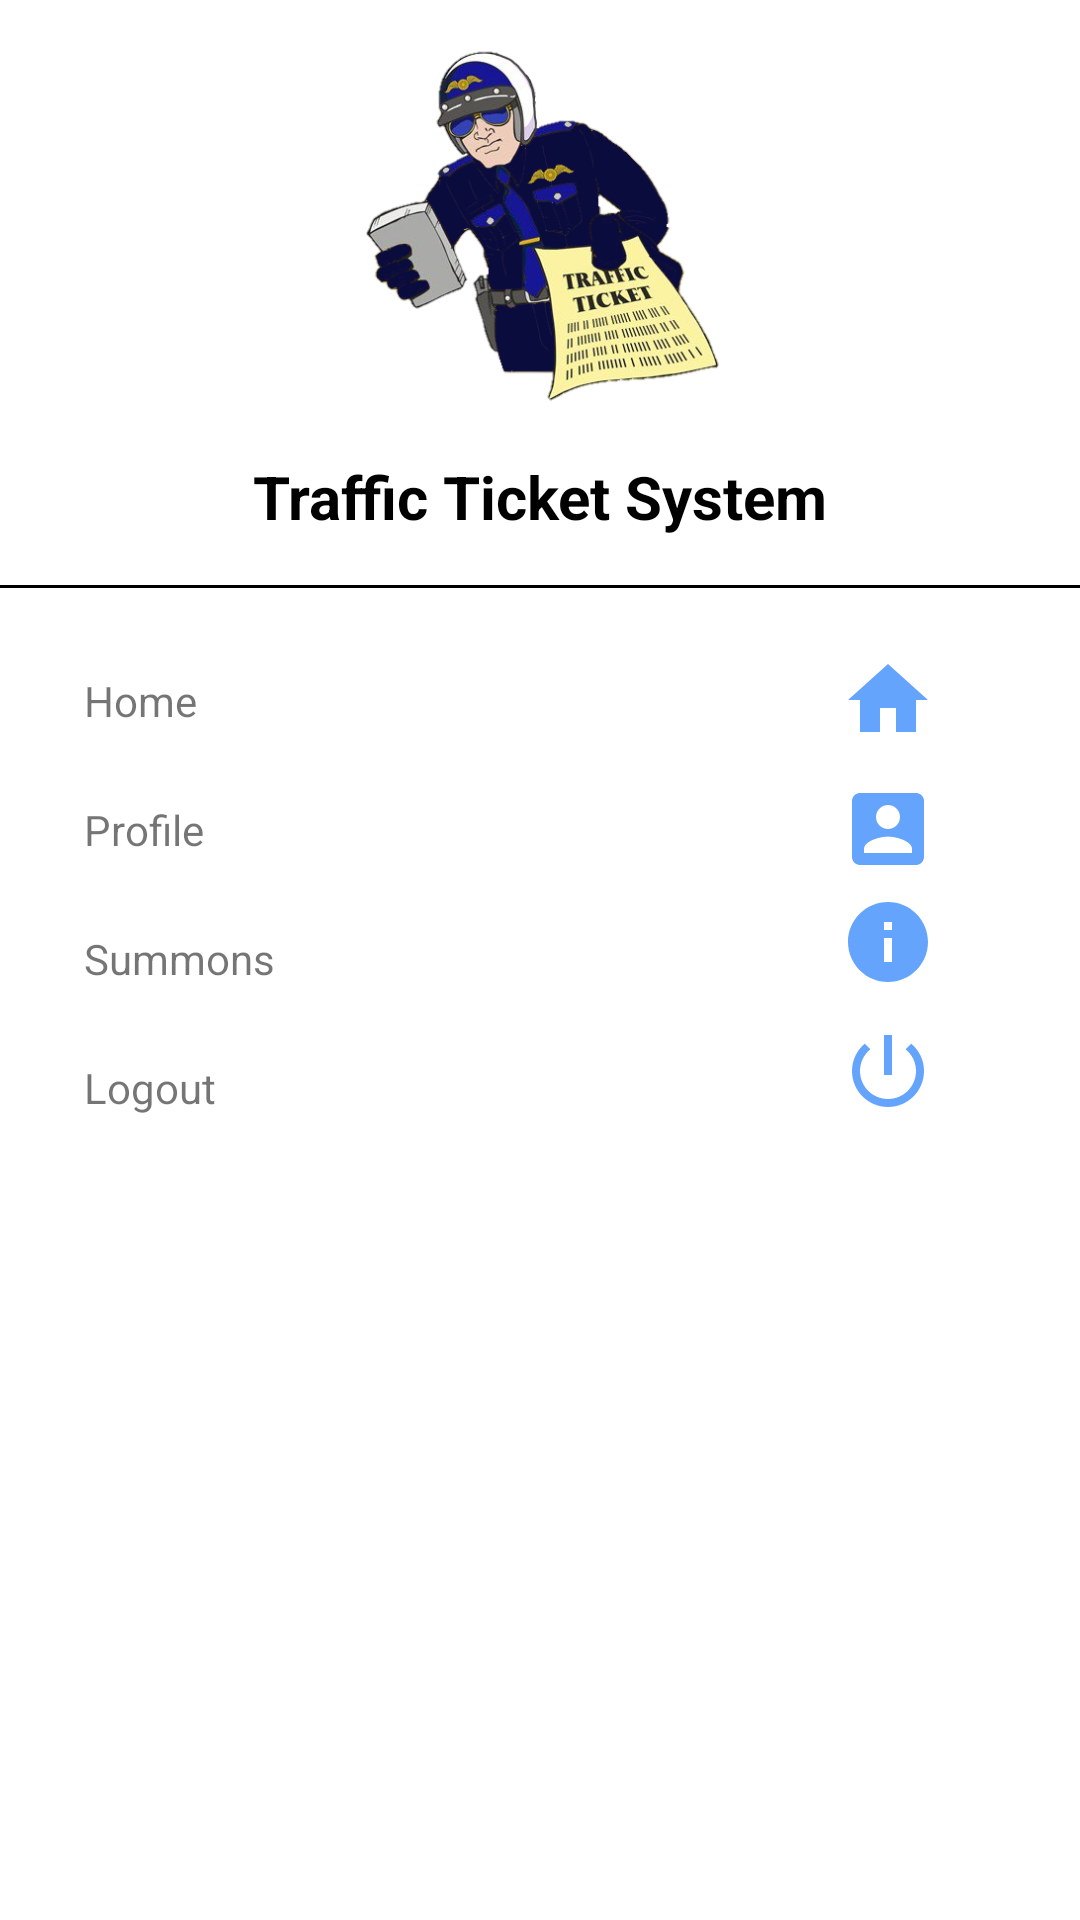

Named icons in this screenshot (1080px x 1920px) and their centers, [x,y]:
aboutus: [888,942]
